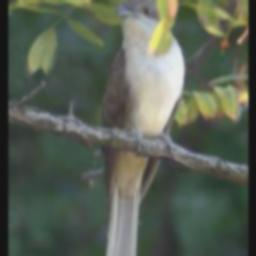Cuckoo: (96, 0, 186, 256)
